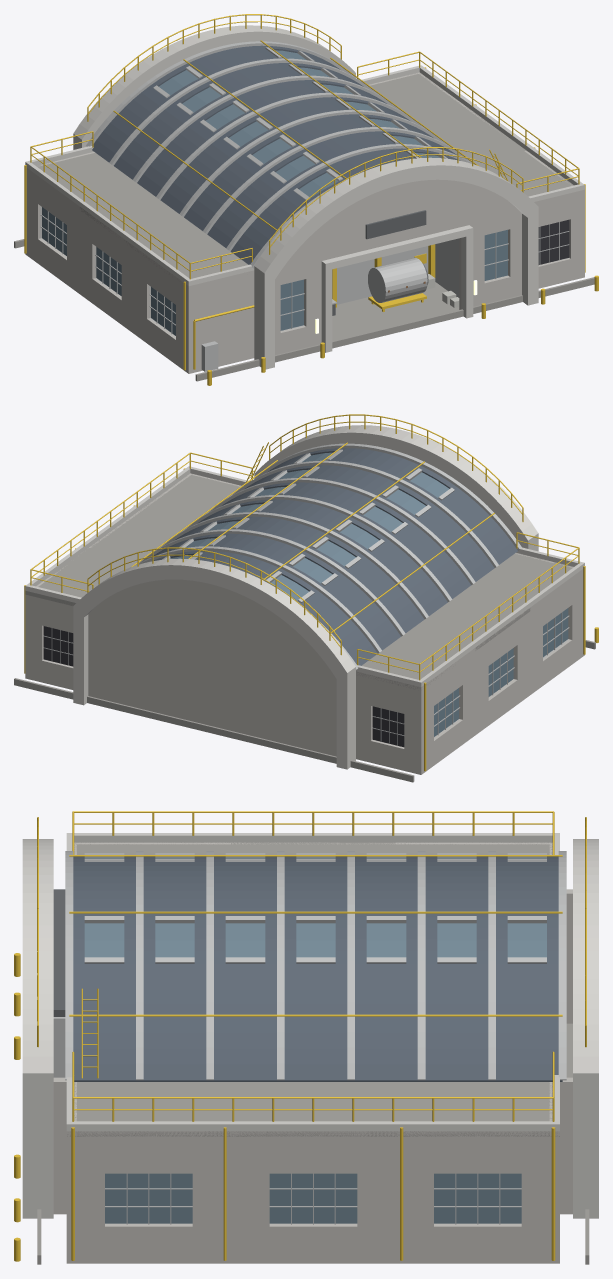
Rendered from a_hangar_repaired.glb.
3 views of the same model, one above another, from view 1: azimuth 30°, elevation 25°; view 2: azimuth 150°, elevation 25°; view 3: azimuth 270°, elevation 25° (orthographic). The views are drawn at different scales.
Parts seen in each view (by area): view 1: a_hangar_m_concrete, a_hangar_m_corrugated, a_hangar_m_concrete_trim, a_hangar_m_metal_paint, a_hangar_m_concrete_dark, a_hangar_m_yellow_paint, a_hangar_m_glass, a_hangar_m_concrete_repaired, a_hangar_m_corrugated_repaired, a_hangar_m_concrete_dark_repaired, a_hangar_m_glass_repaired, a_hangar_m_yellow_paint_repaired (+3 smaller); view 2: a_hangar_m_concrete, a_hangar_m_corrugated, a_hangar_m_concrete_trim, a_hangar_m_concrete_dark, a_hangar_m_metal_paint, a_hangar_m_yellow_paint, a_hangar_m_corrugated_repaired, a_hangar_m_concrete_repaired, a_hangar_m_glass, a_hangar_m_concrete_dark_repaired, a_hangar_m_glass_repaired, a_hangar_m_interior_dark (+2 smaller); view 3: a_hangar_m_corrugated, a_hangar_m_concrete, a_hangar_m_concrete_trim, a_hangar_m_metal_paint, a_hangar_m_concrete_dark, a_hangar_m_glass, a_hangar_m_corrugated_repaired, a_hangar_m_yellow_paint, a_hangar_m_glass_repaired, a_hangar_m_concrete_trim_repaired, a_hangar_m_yellow_paint_repaired, a_hangar_m_concrete_dark_repaired (+1 smaller).
Part boxes in pixels (bbox=[...]): a_hangar_m_concrete: bbox=[25, 72, 584, 373]; a_hangar_m_corrugated: bbox=[92, 45, 456, 264]; a_hangar_m_concrete_trim: bbox=[25, 25, 584, 369]; a_hangar_m_metal_paint: bbox=[40, 41, 569, 371]; a_hangar_m_concrete_dark: bbox=[14, 72, 594, 381]; a_hangar_m_yellow_paint: bbox=[24, 14, 598, 385]; a_hangar_m_glass: bbox=[42, 50, 507, 335]; a_hangar_m_concrete_repaired: bbox=[79, 207, 134, 333]; a_hangar_m_corrugated_repaired: bbox=[142, 67, 460, 212]; a_hangar_m_concrete_dark_repaired: bbox=[80, 190, 200, 247]; a_hangar_m_glass_repaired: bbox=[96, 67, 439, 295]; a_hangar_m_yellow_paint_repaired: bbox=[30, 131, 252, 279]; a_hangar_m_concrete: bbox=[25, 473, 584, 774]; a_hangar_m_corrugated: bbox=[151, 448, 517, 665]; a_hangar_m_concrete_trim: bbox=[25, 425, 584, 769]; a_hangar_m_concrete_dark: bbox=[14, 474, 595, 782]; a_hangar_m_metal_paint: bbox=[43, 443, 569, 745]; a_hangar_m_yellow_paint: bbox=[24, 414, 598, 771]; a_hangar_m_corrugated_repaired: bbox=[155, 452, 465, 614]; a_hangar_m_concrete_repaired: bbox=[475, 608, 530, 734]; a_hangar_m_glass: bbox=[170, 489, 568, 736]; a_hangar_m_concrete_dark_repaired: bbox=[409, 591, 530, 650]; a_hangar_m_glass_repaired: bbox=[185, 452, 513, 696]; a_hangar_m_interior_dark: bbox=[43, 626, 404, 747]; a_hangar_m_corrugated: bbox=[73, 856, 562, 1081]; a_hangar_m_concrete: bbox=[53, 842, 572, 1263]; a_hangar_m_concrete_trim: bbox=[22, 833, 598, 1218]; a_hangar_m_metal_paint: bbox=[53, 851, 566, 1224]; a_hangar_m_concrete_dark: bbox=[37, 842, 589, 1264]; a_hangar_m_glass: bbox=[105, 857, 546, 1223]; a_hangar_m_corrugated_repaired: bbox=[73, 862, 488, 1018]; a_hangar_m_yellow_paint: bbox=[14, 817, 586, 1261]; a_hangar_m_glass_repaired: bbox=[84, 857, 476, 957]; a_hangar_m_concrete_trim_repaired: bbox=[67, 833, 559, 842]; a_hangar_m_yellow_paint_repaired: bbox=[72, 811, 554, 854]; a_hangar_m_concrete_dark_repaired: bbox=[231, 842, 395, 854].
Size of the model in its own units: 26.93 by 11.58 by 22.53.
